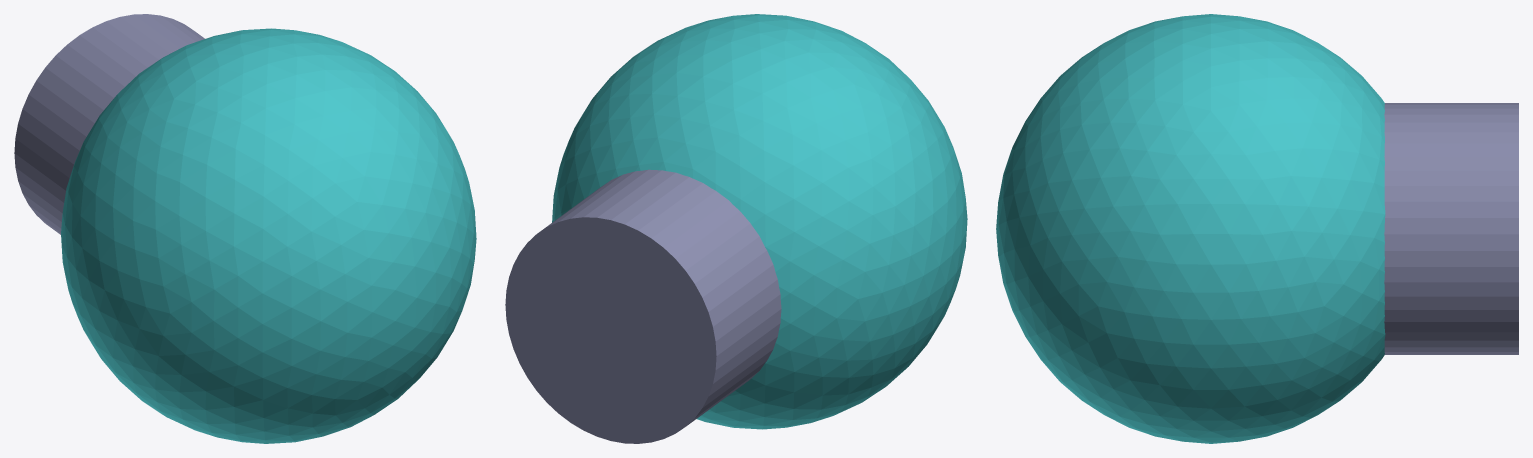
File: object-draft.glb
The picture shows the model from 3 angles, left to right: view 1: azimuth 30°, elevation 25°; view 2: azimuth 150°, elevation 25°; view 3: azimuth 270°, elevation 25°; orthographic projection. The views are drawn at different scales.
Parts seen in each view (by area): view 1: world; view 2: world; view 3: world.
Part boxes in pixels (left/top/right/bottom): world: left=14, top=14, right=476, bottom=443; world: left=505, top=14, right=967, bottom=443; world: left=996, top=14, right=1518, bottom=443.
Bounding box in the file's own units: 1.16 × 1.16 × 1.41.
